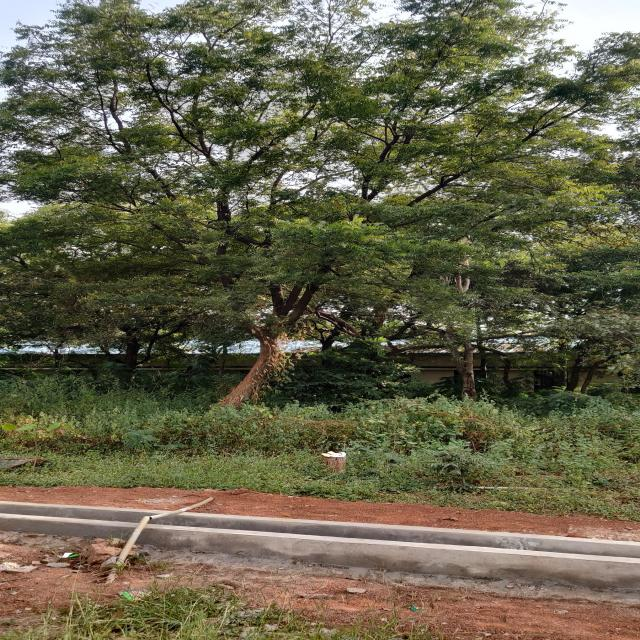Neem Tree: (38, 17, 604, 377)
